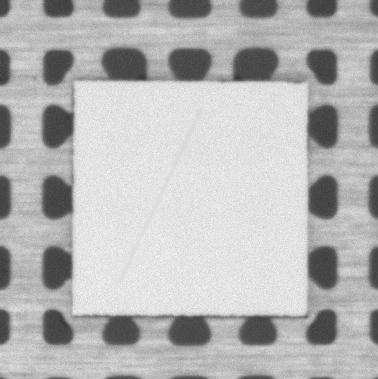DIE_CRACK: (119, 109, 200, 284)
